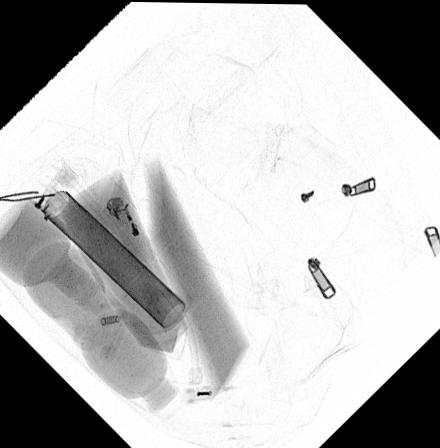Lighter: (104, 193, 153, 262)
